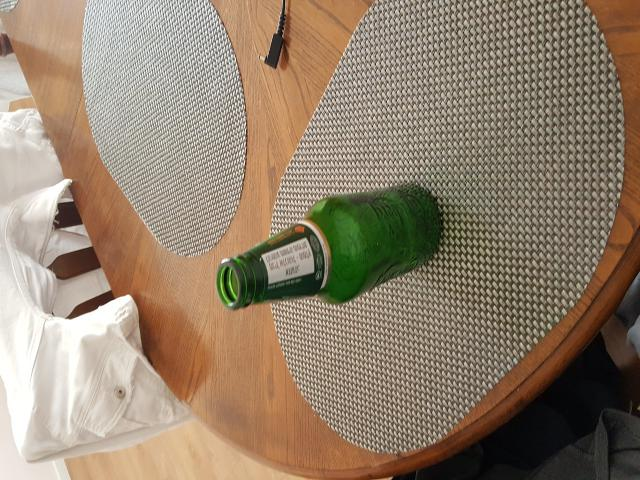beer: (219, 182, 441, 301)
